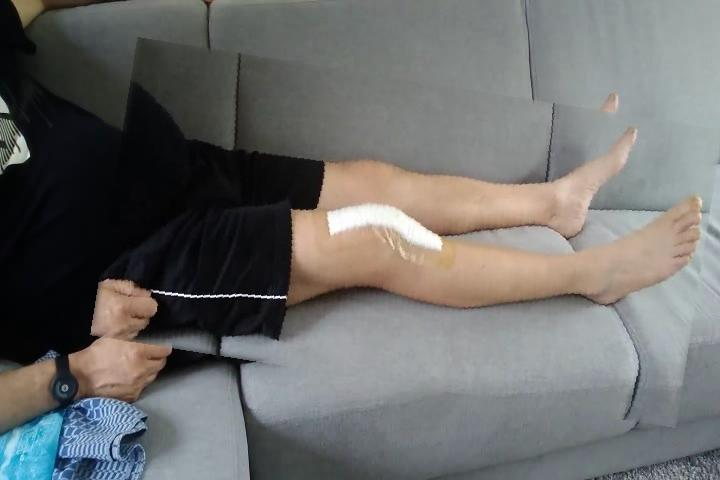lower_body: (101, 61, 714, 407)
